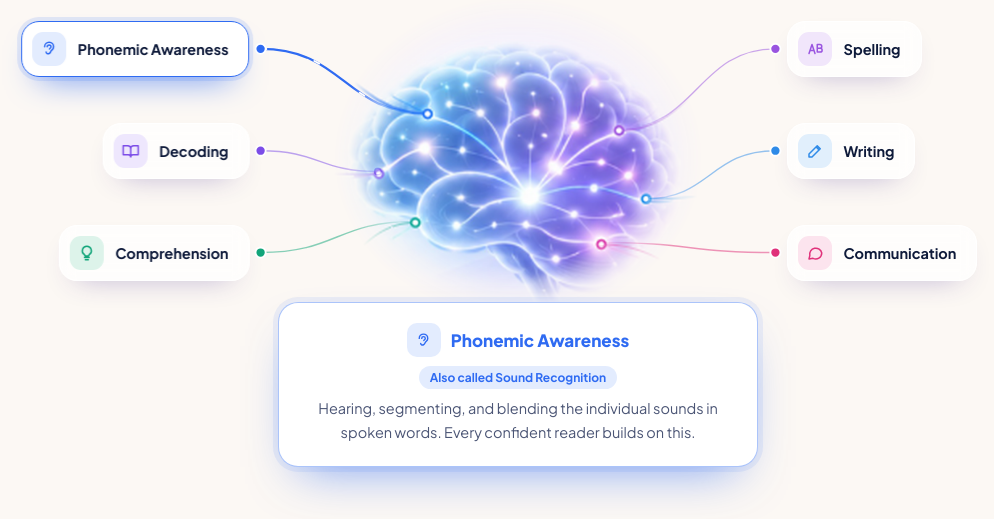
SkillMap › shows the alternative name only for skills that have one
Click the button "Phonemic Awareness": click(135, 49) [21,21,250,77]
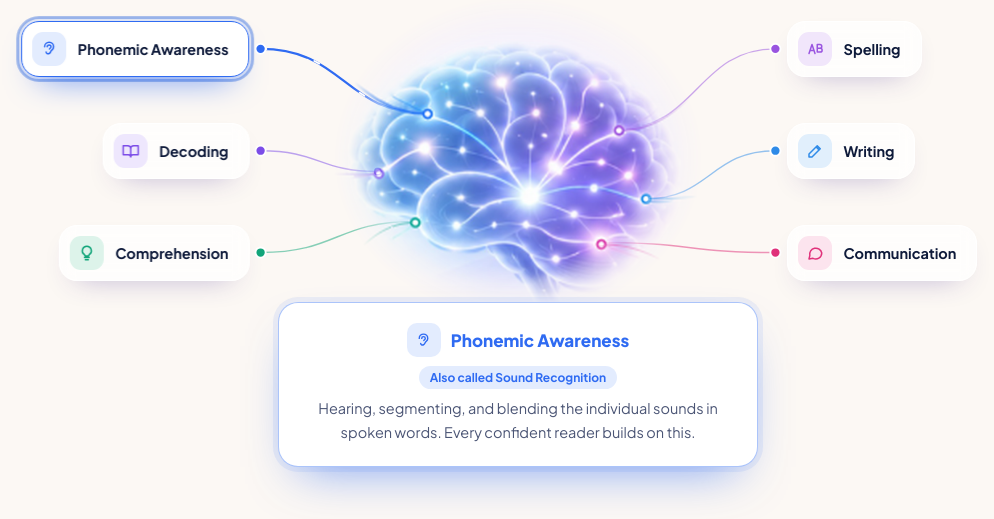
Click the button "Comprehension": click(154, 252) [58,224,250,280]
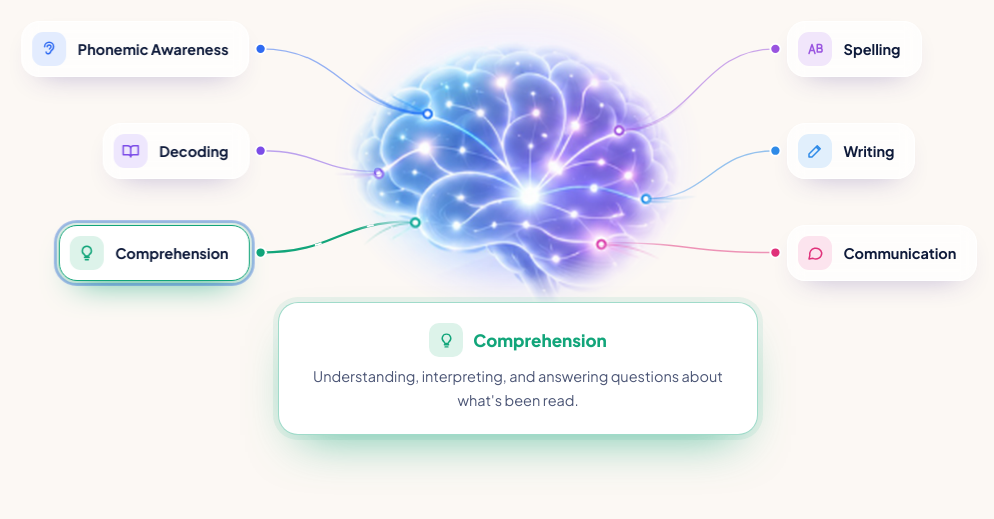
Expected: the text "Also called " is gone
